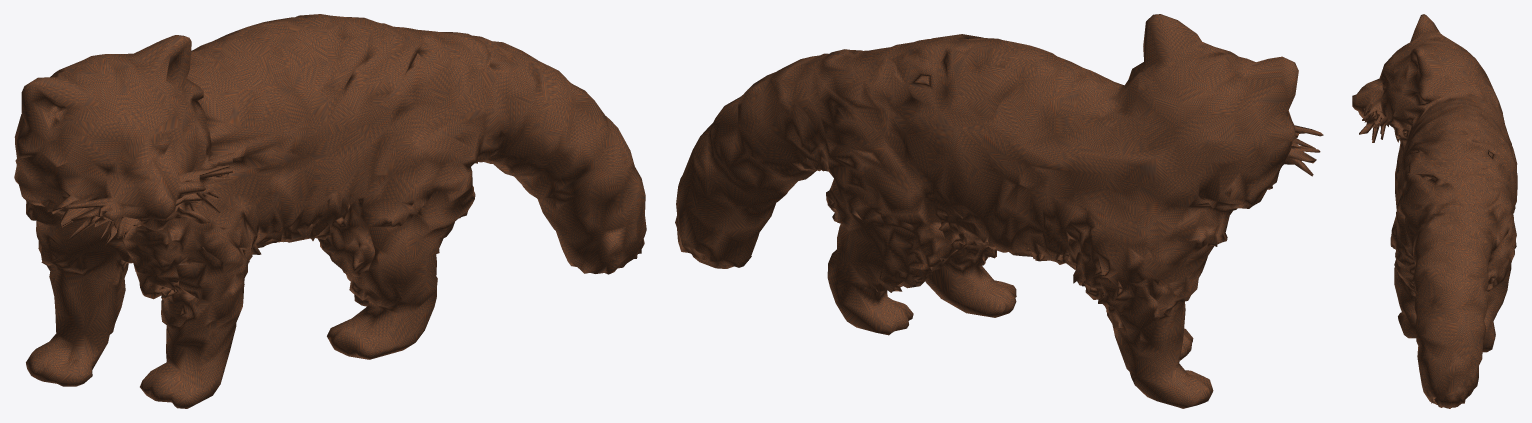
File: hlg-redpanda.glb
3 views of the same model, side by side, from view 1: azimuth 30°, elevation 25°; view 2: azimuth 150°, elevation 25°; view 3: azimuth 270°, elevation 25° (orthographic). The views are drawn at different scales.
Visible parts, largest first — view 1: geometry_0; view 2: geometry_0; view 3: geometry_0.
Boxes of the visible parts, x1=… form: geometry_0: x1=14, y1=14, x2=646, y2=408; geometry_0: x1=675, y1=14, x2=1323, y2=408; geometry_0: x1=1352, y1=14, x2=1517, y2=408.
Bounding box in the file's own units: 19635 × 10598 × 7143.
1 material, 1 textured.
